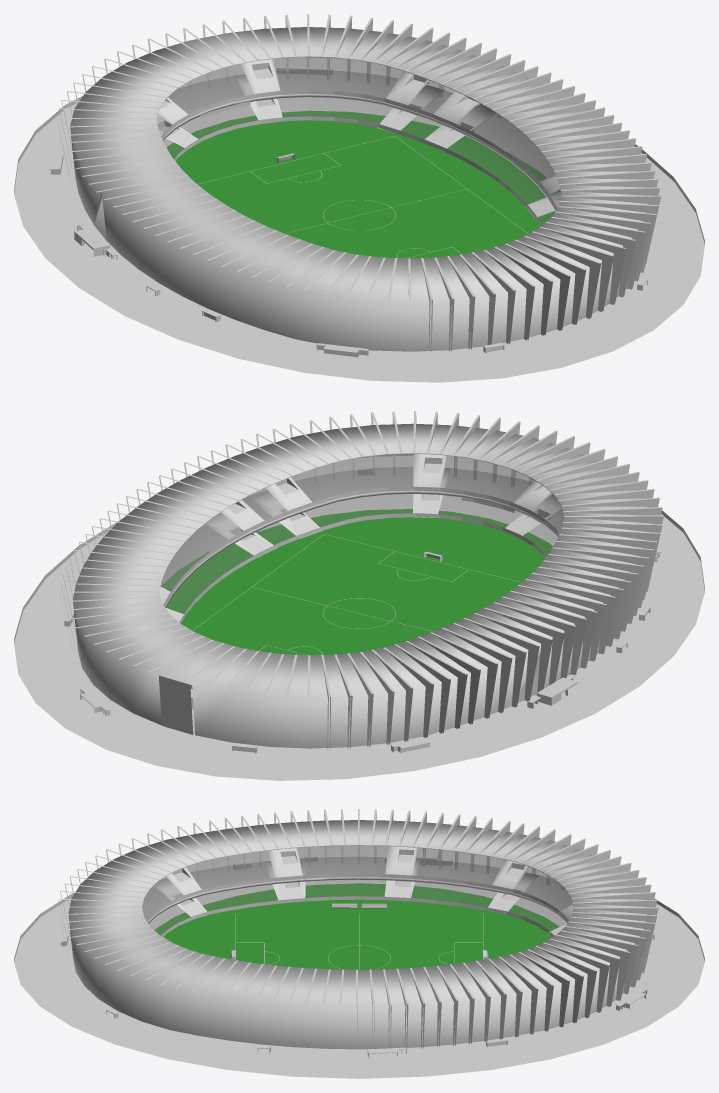
The model's file is mineirao_1.glb.
3 renders of one model, top to bottom at view 1: azimuth 30°, elevation 25°; view 2: azimuth 150°, elevation 25°; view 3: azimuth 270°, elevation 25°, orthographic. The views are drawn at different scales.
Parts seen in each view (by area): view 1: Mineirao, Campo; view 2: Mineirao, Campo; view 3: Mineirao.
Part boxes in pixels (left/top/right/bottom): Mineirao: left=14, top=14, right=704, bottom=382; Campo: left=197, top=136, right=528, bottom=258; Mineirao: left=14, top=411, right=704, bottom=780; Campo: left=192, top=534, right=520, bottom=655; Mineirao: left=14, top=809, right=704, bottom=1078.
Size of the model in its own units: 261 by 28.14 by 326.
